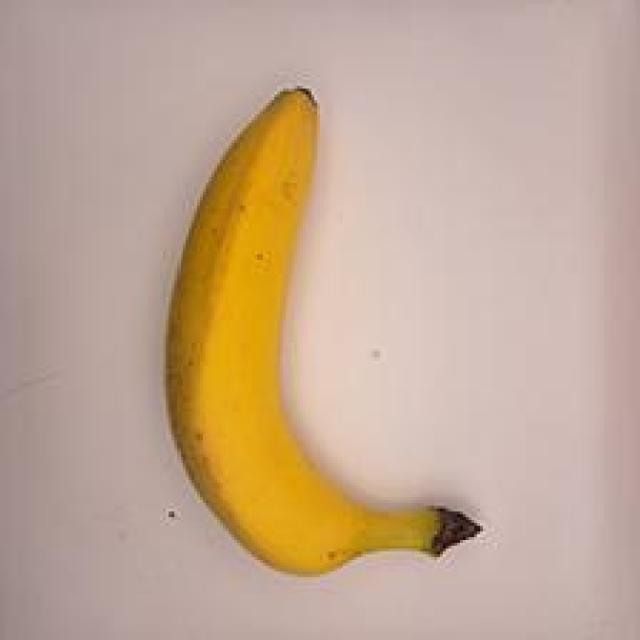Ripe: (116, 52, 499, 598)
